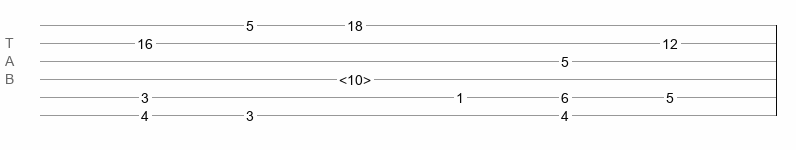1: (456, 90, 464, 100)
12: (662, 36, 678, 46)
16: (137, 36, 153, 46)
18: (347, 18, 363, 28)
3: (141, 90, 149, 100), (246, 108, 254, 118)
4: (141, 108, 149, 118), (561, 108, 569, 118)
5: (246, 18, 254, 28), (561, 54, 569, 64), (666, 90, 674, 100)
6: (561, 90, 569, 100)
harmonic: (339, 72, 371, 82)
